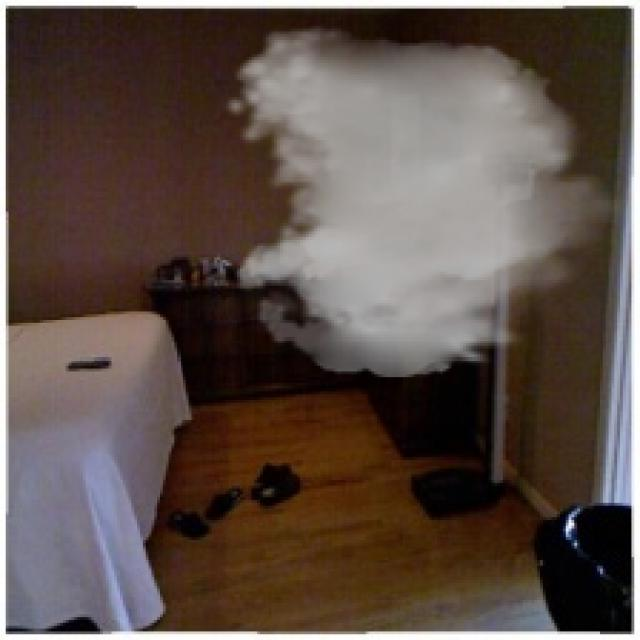smoke: (223, 26, 631, 377)
